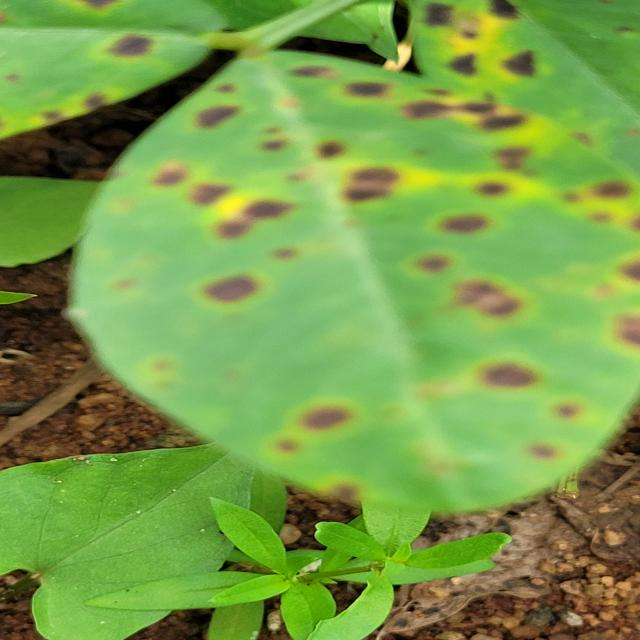Ground nut_tikka leaf spot: (79, 50, 640, 505), (0, 0, 242, 140)
